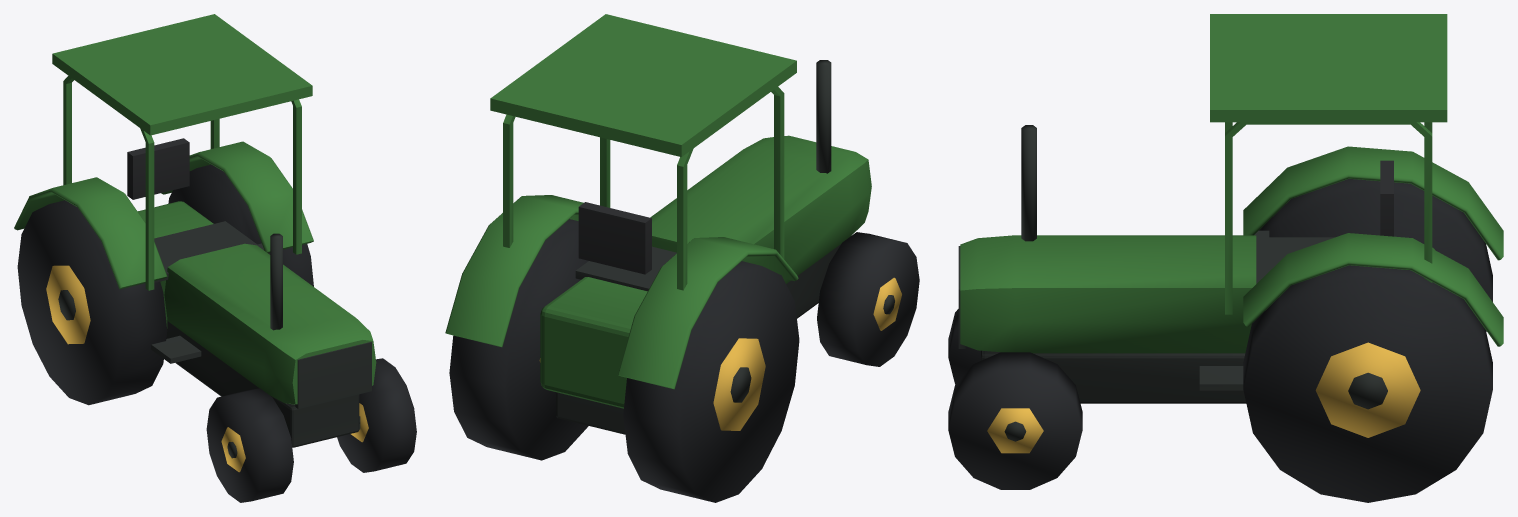
The model's file is tractor.far.glb.
The picture shows the model from 3 angles, left to right: view 1: azimuth 30°, elevation 25°; view 2: azimuth 150°, elevation 25°; view 3: azimuth 270°, elevation 25°; orthographic projection. The views are drawn at different scales.
Visible parts, largest first — view 1: tractor_far; view 2: tractor_far; view 3: tractor_far.
Boxes of the visible parts, left/top/right/bottom form: tractor_far: left=14, top=14, right=416, bottom=502; tractor_far: left=445, top=14, right=919, bottom=502; tractor_far: left=948, top=14, right=1503, bottom=502.
Size of the model in its own units: 1.62 by 2.46 by 3.23.
